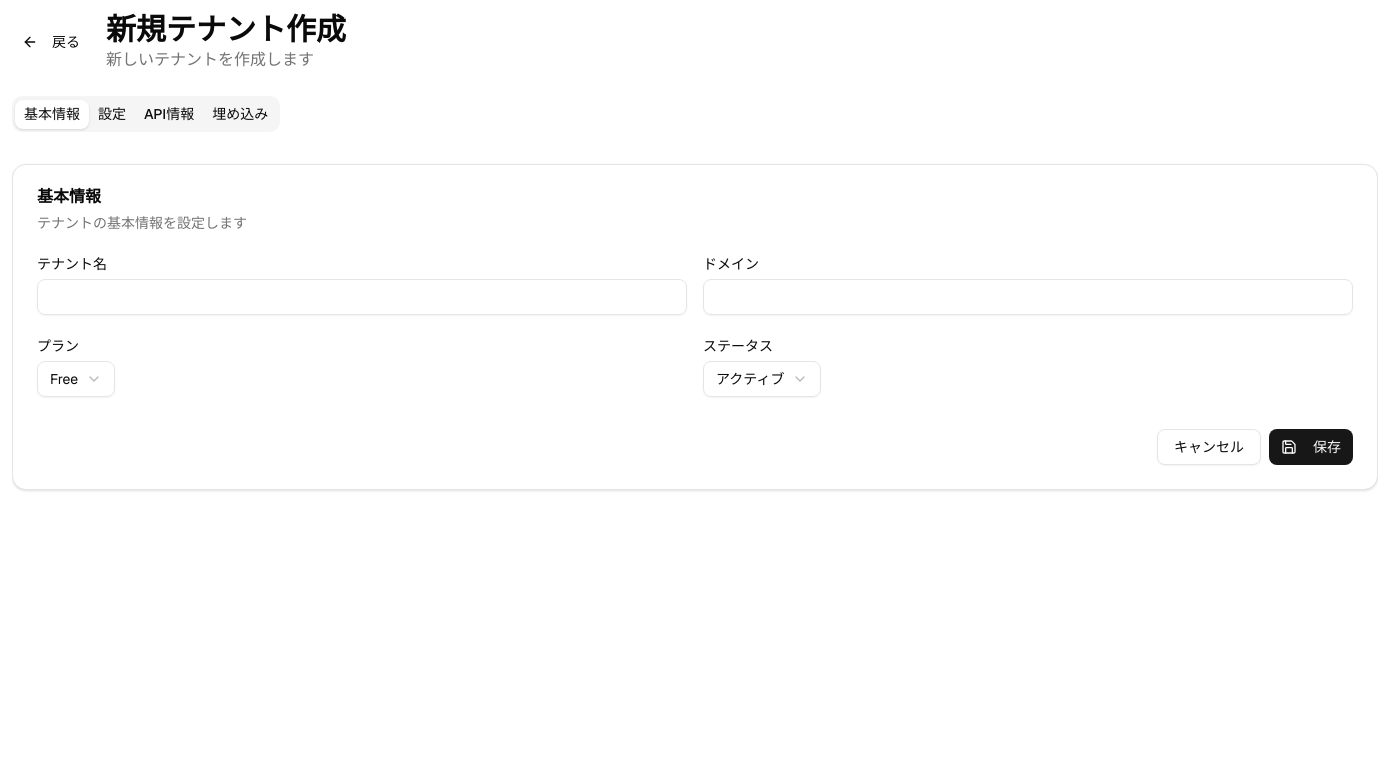
Test: TenantForm › エラーハンドリング › テナント保存エラー
#  フォームに入力
Type "テストテナント" into the field labelled "テナント名" at (362, 297), box [37, 279, 687, 315]
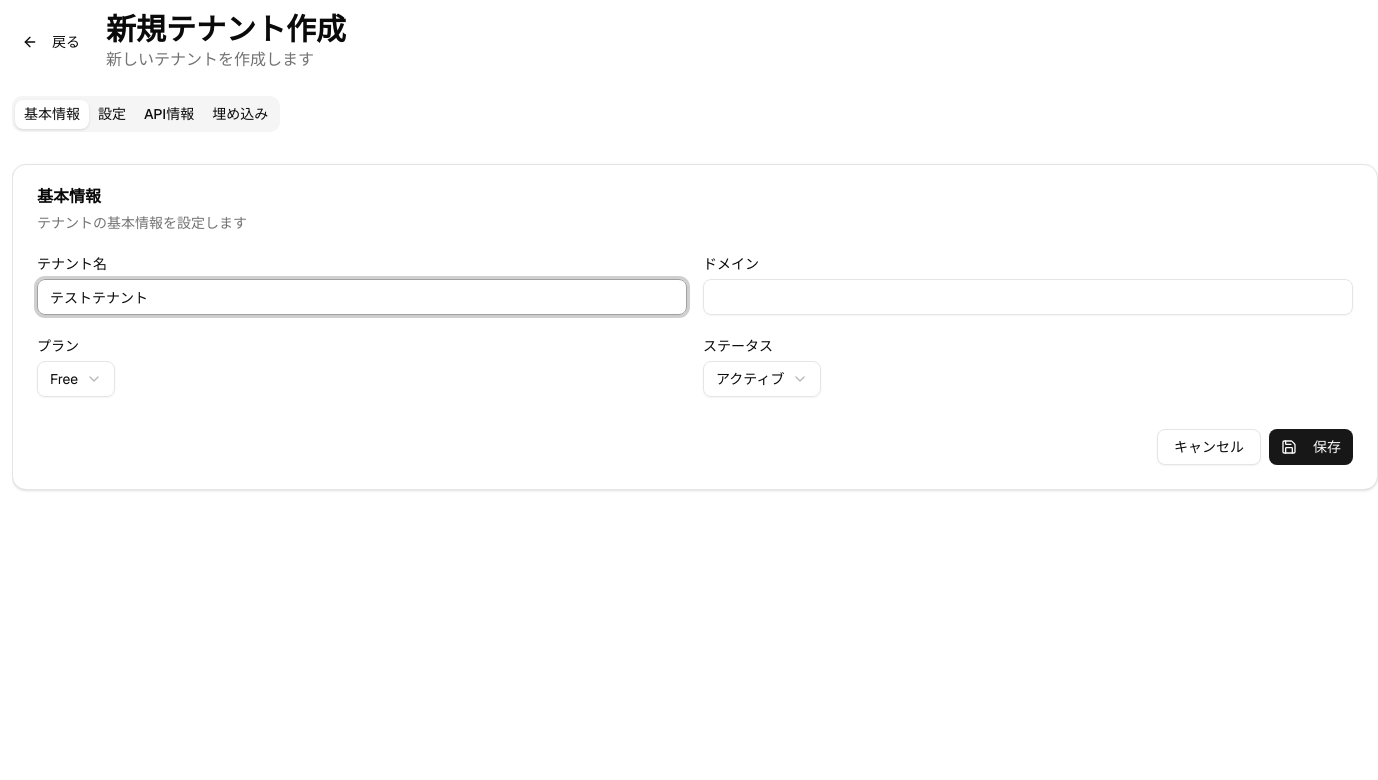
Type "test-tenant" into the field labelled "ドメイン" at (1028, 297), box [703, 279, 1353, 315]
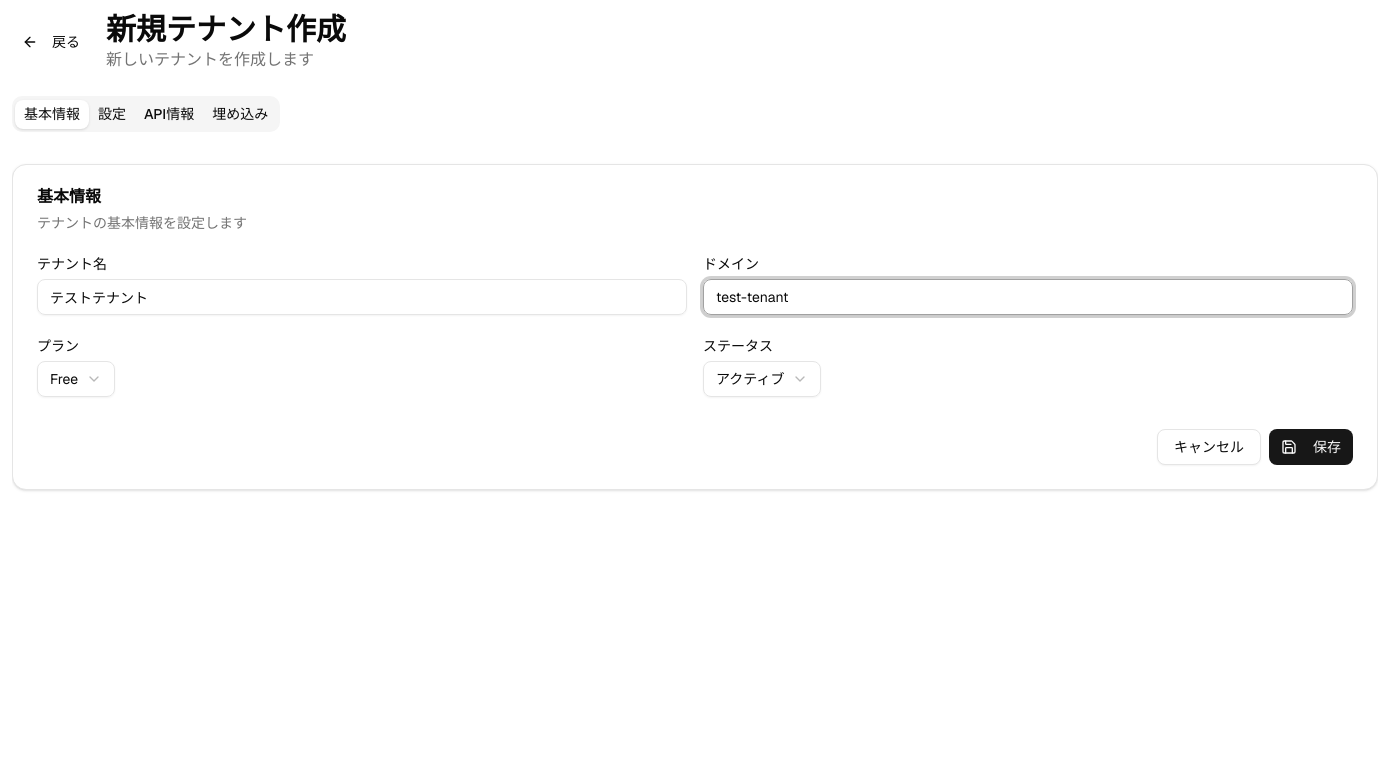
# 保存ボタンをクリック
Click the button "保存" at (1311, 447), box [1269, 429, 1353, 465]
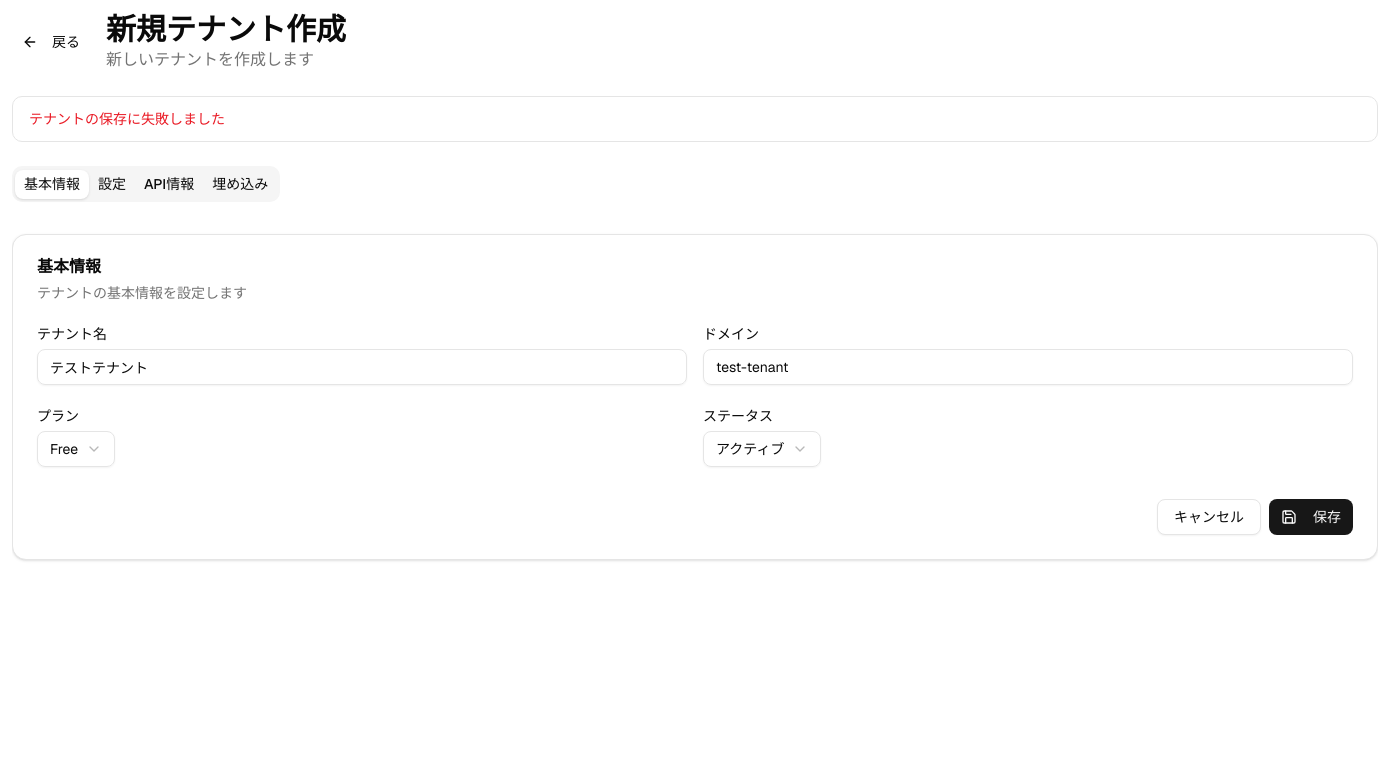
Now the text "テナントの保存に失敗しました" is shown, box [29, 110, 225, 128]
